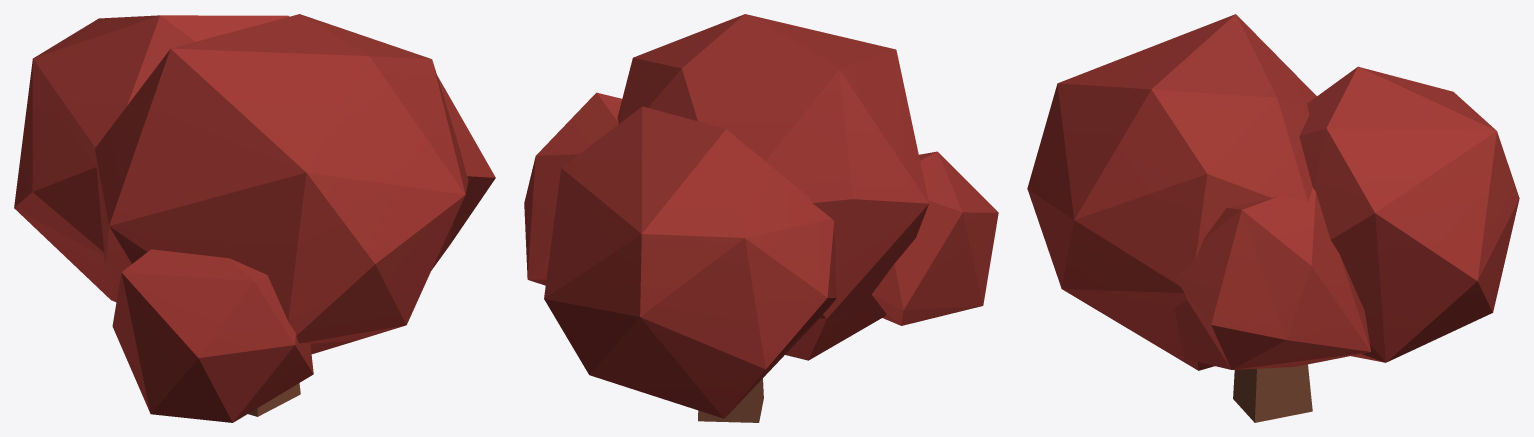
Rendered from Bush_6_gradient_red_vc.fbx.
The picture shows the model from 3 angles, left to right: view 1: azimuth 30°, elevation 25°; view 2: azimuth 150°, elevation 25°; view 3: azimuth 270°, elevation 25°; orthographic projection. The views are drawn at different scales.
Visible parts, largest first — view 1: Bush_6_gradient_red_vc; view 2: Bush_6_gradient_red_vc; view 3: Bush_6_gradient_red_vc.
Part boxes in pixels (box(x1,y1,x2,y2)): Bush_6_gradient_red_vc: box(14, 14, 495, 422); Bush_6_gradient_red_vc: box(524, 14, 998, 422); Bush_6_gradient_red_vc: box(1027, 14, 1519, 422).
Size of the model in its own units: 30.85 by 27.54 by 35.35.
